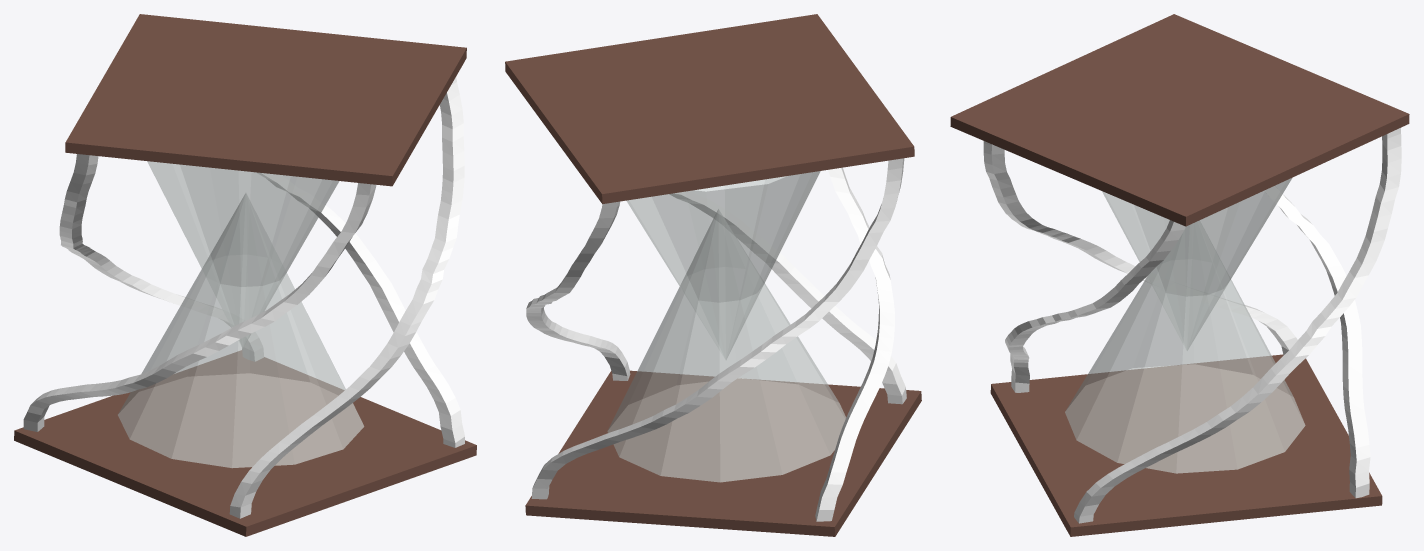
The model's file is model-triangulated.obj.
3 views of the same model, side by side, from view 1: azimuth 30°, elevation 25°; view 2: azimuth 150°, elevation 25°; view 3: azimuth 270°, elevation 25° (orthographic). The views are drawn at different scales.
Visible parts, largest first — view 1: group404900302; view 2: group404900302; view 3: group404900302.
Part boxes in pixels (<box>): group404900302: <box>14,14,476,536</box>; group404900302: <box>505,14,921,536</box>; group404900302: <box>950,14,1409,536</box>.
Size of the model in its own units: 2.57 by 2.19 by 2.57.
